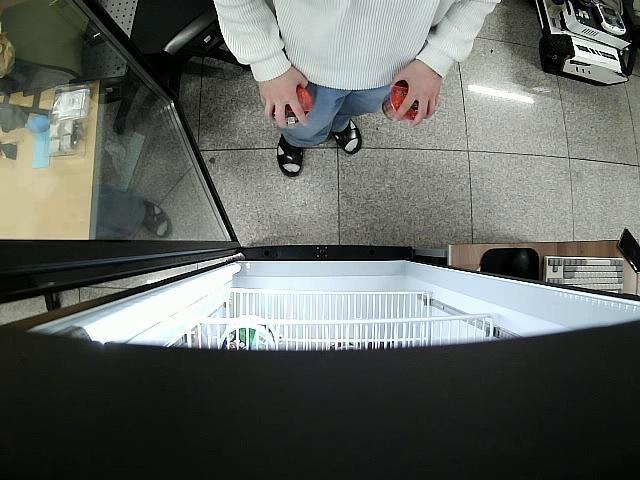02_shinRamen_S: (383, 80, 430, 123), (270, 86, 310, 126)
